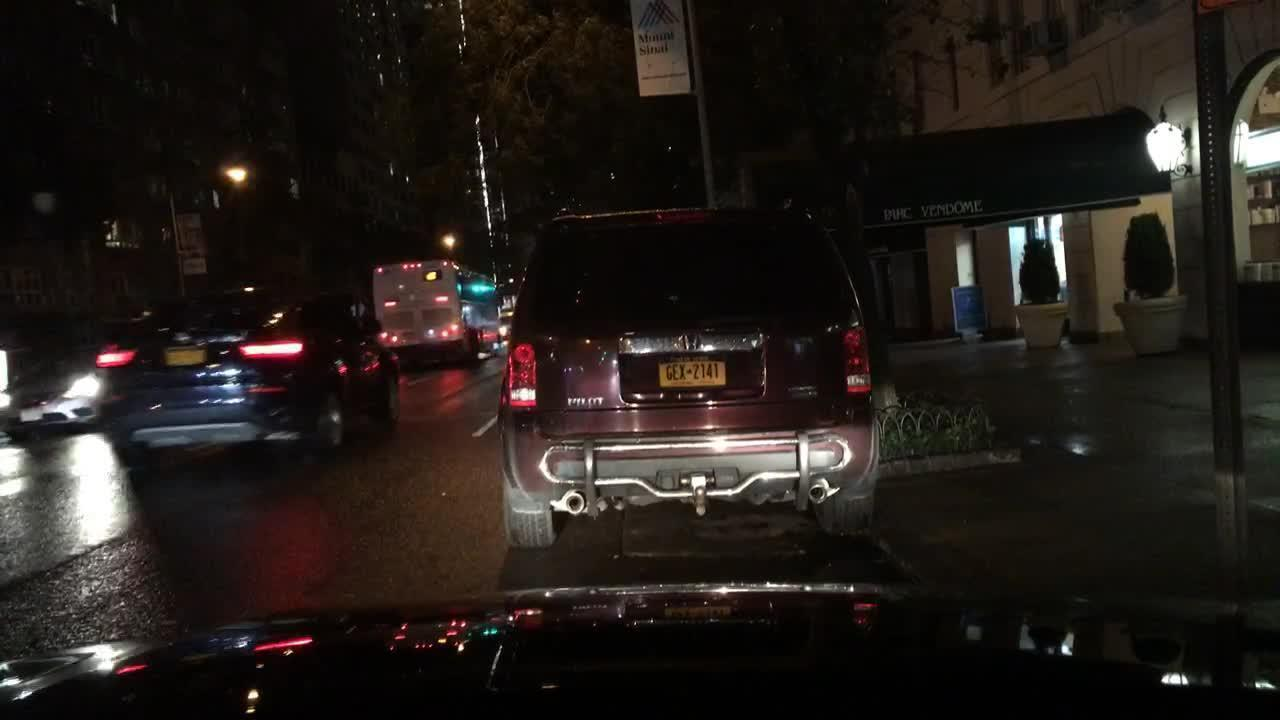Honda: (668, 322, 712, 366)
